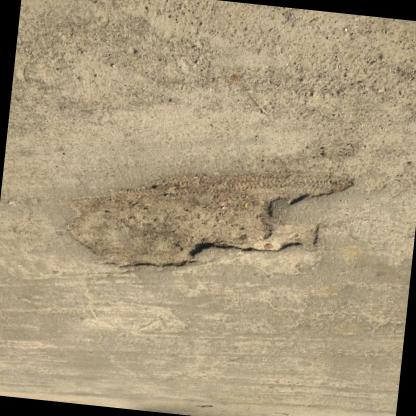pothole: (58, 142, 360, 295)
